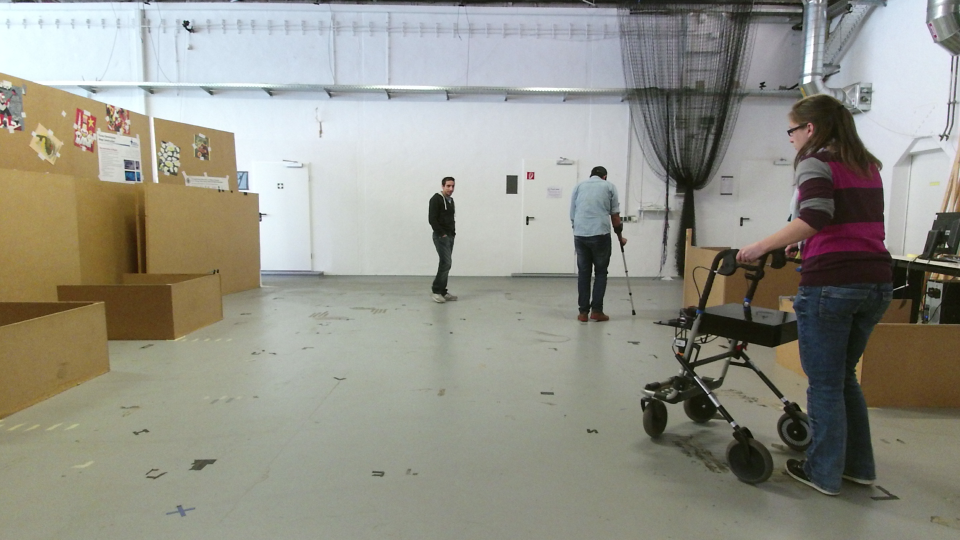crutches: (562, 160, 638, 325)
